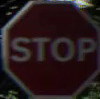Stop: (5, 10, 94, 80)
